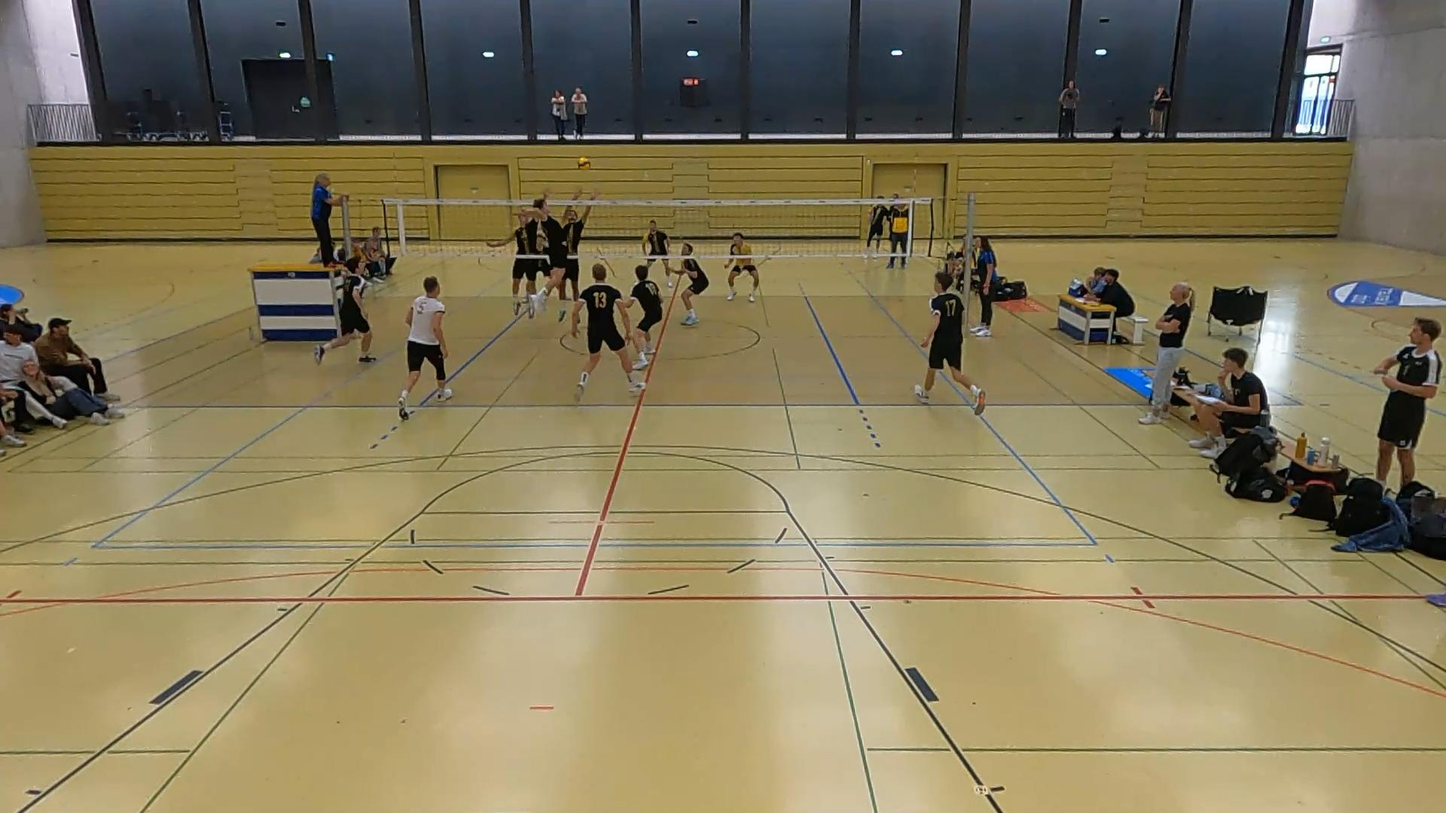Attack: (513, 191, 571, 325)
Block: (559, 182, 595, 317)
Player: (914, 271, 984, 414), (571, 263, 644, 400), (398, 276, 452, 419), (314, 255, 375, 364), (624, 264, 663, 370), (725, 232, 759, 302), (681, 242, 708, 325), (643, 220, 672, 287)
ball: (576, 154, 592, 172)
